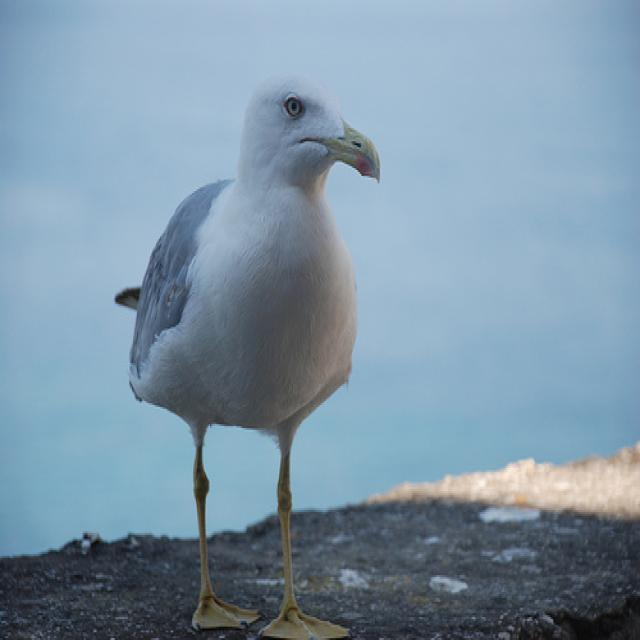bird: (100, 66, 386, 639)
